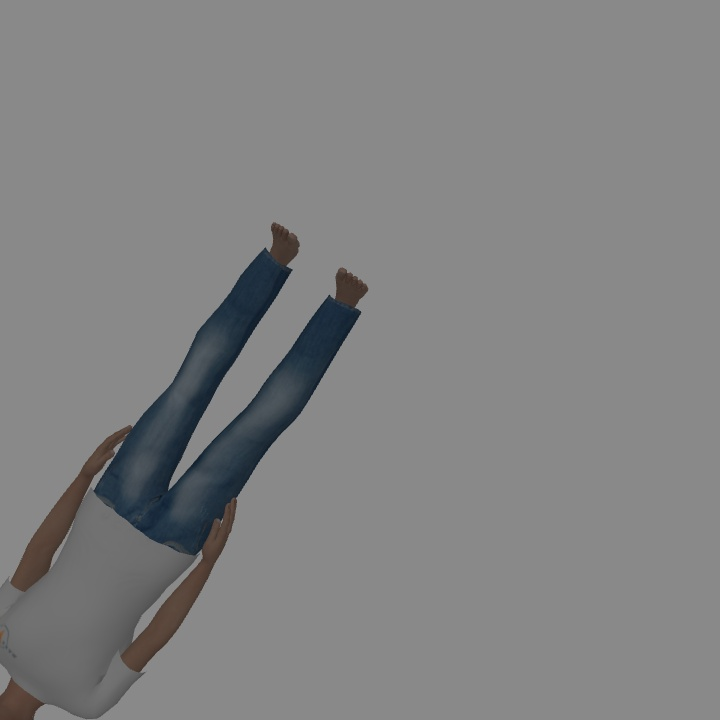victim: (4, 220, 368, 720)
